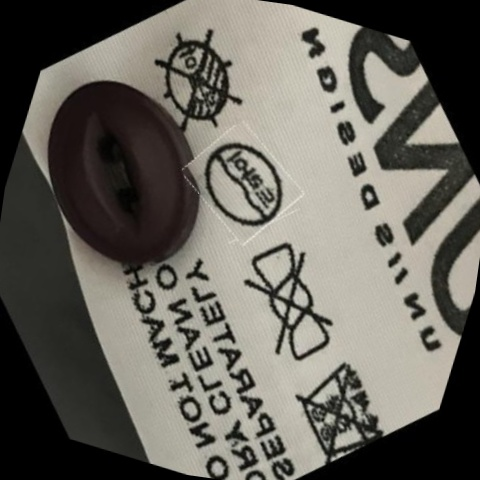DN_dry: (139, 22, 257, 141)
DN_wring: (222, 238, 355, 371)
dry_clean: (189, 129, 296, 239)
hand_wash: (283, 346, 396, 467)
